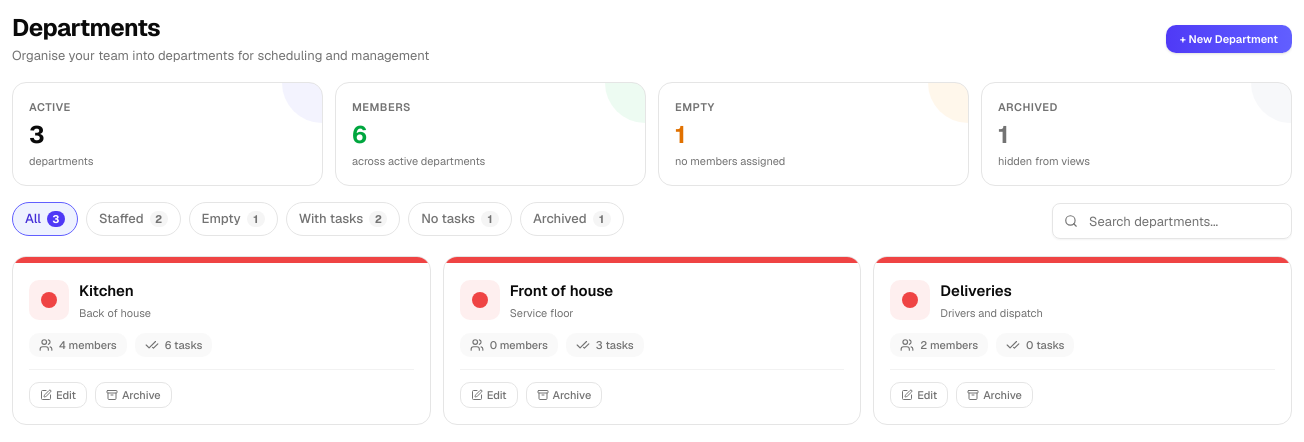
filtering › Archived shows the archived card, with its own actions
Check: the heading "Kitchen" is shown, box [79,281,134,300]
Click the button "Archived 1" at (572, 219), box [520,202,624,236]
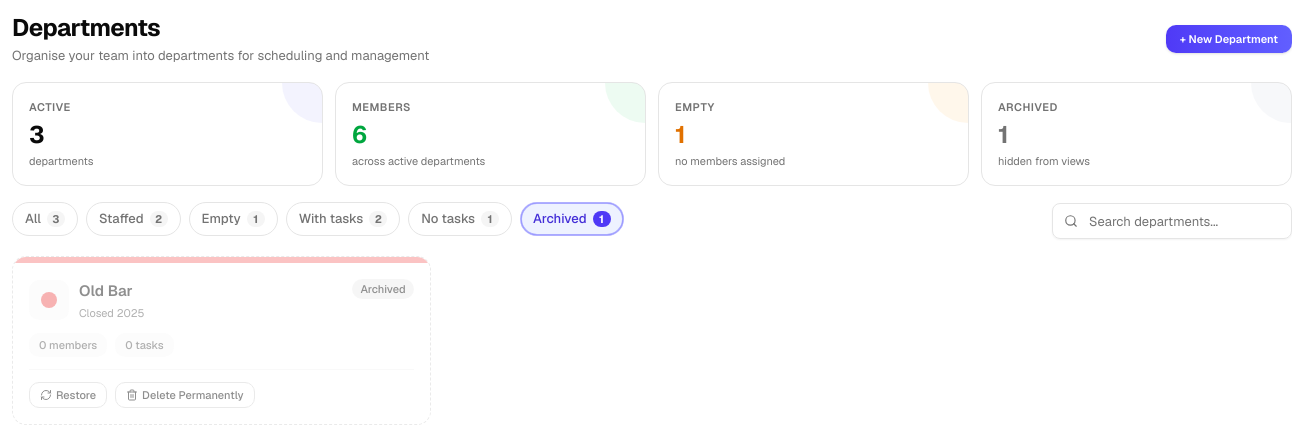
Check: the heading "Old Bar" is shown, box [79,281,133,300]
Check: the button "Restore" is shown, box [29,382,107,408]
Check: the button "Delete Permanently" is shown, box [115,382,255,408]
